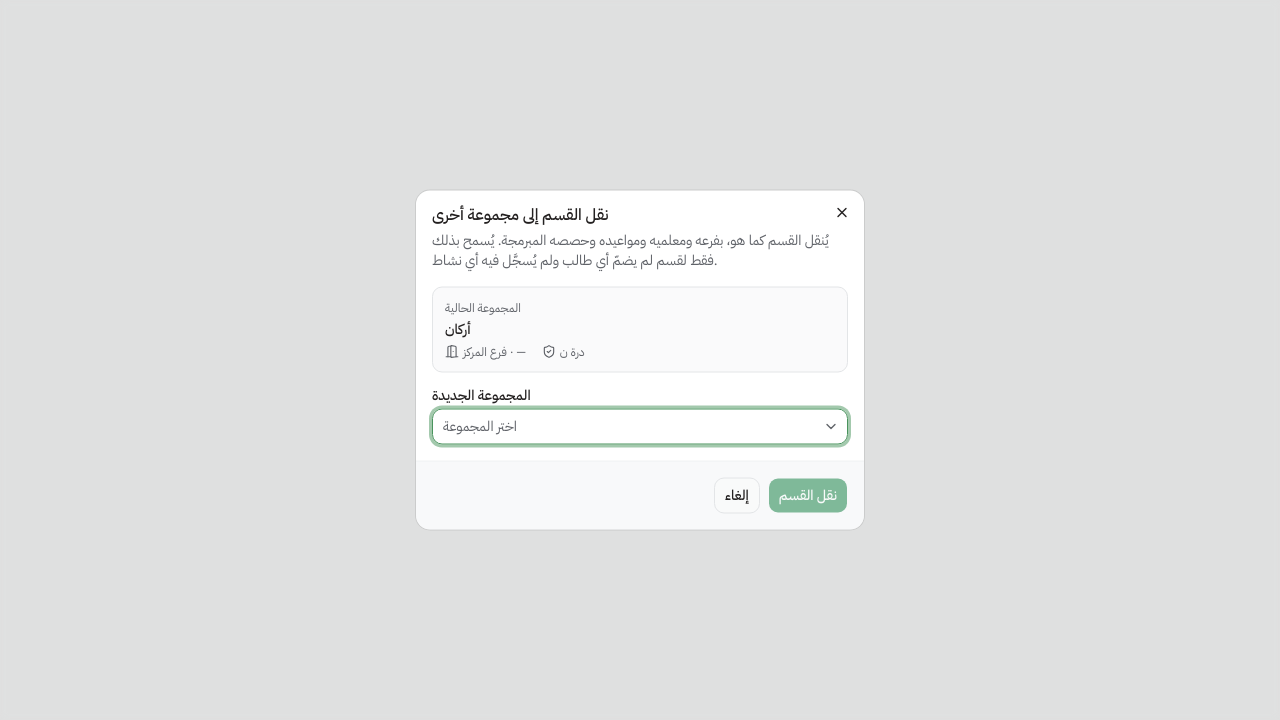
«نقل القسم إلى مجموعة أخرى» › shows the current group; destinations exclude it and archived groups, an inactive one is labelled
The image size is (1280, 720).
expect the button "نقل القسم" is disabled: met, box 768,478 -> 848,514
Click the dropdown at (480, 426), box 432,408 -> 848,444
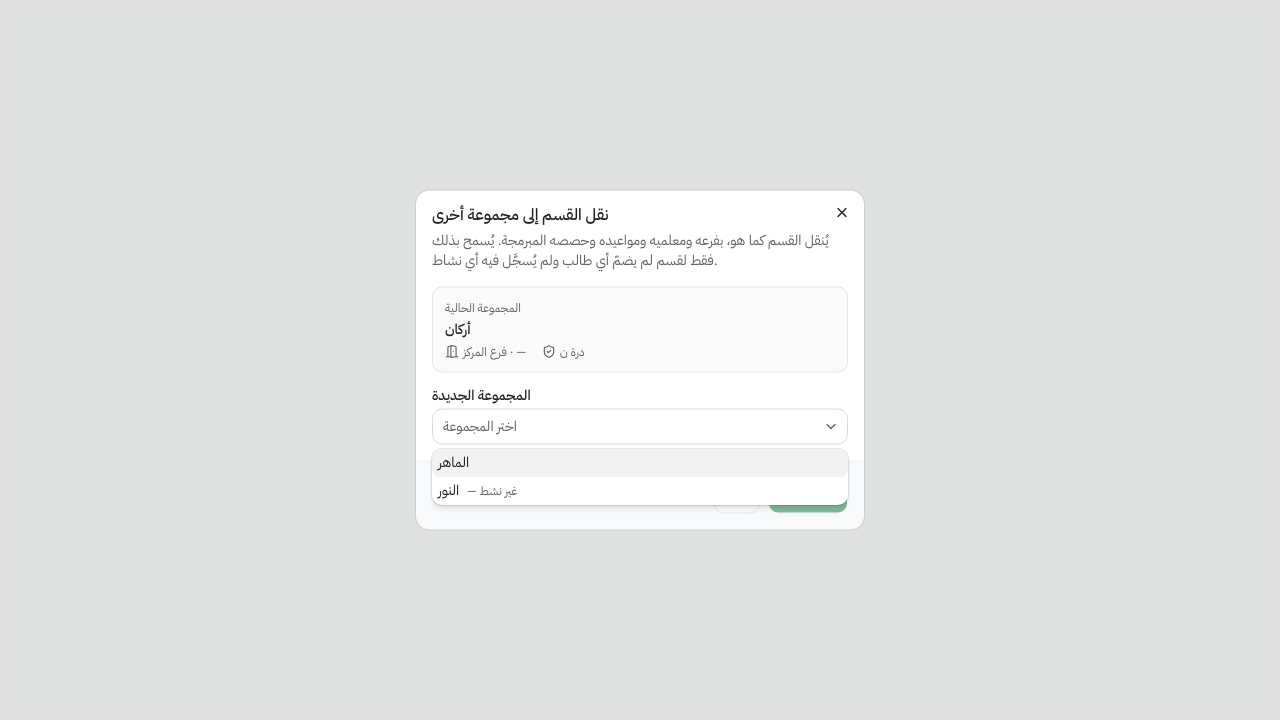
expect the options read "الماهر", "النور— غير نشط", in this order: met, box 432,449 -> 848,477; 438,480 -> 517,501
